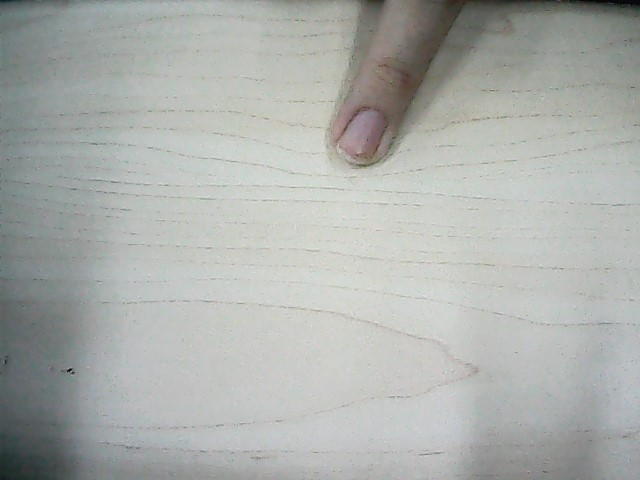nail: (337, 105, 389, 165)
